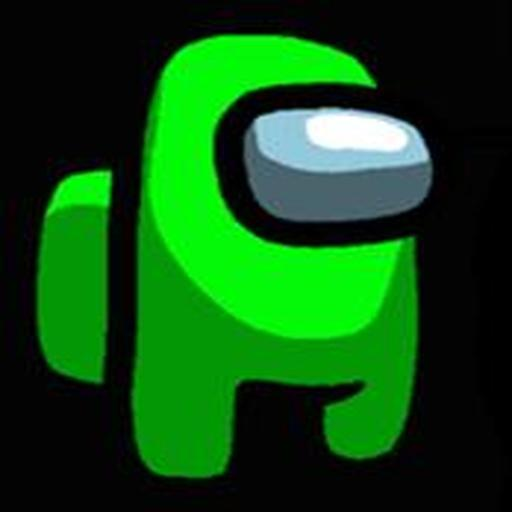Crewmate: (31, 26, 442, 480)
